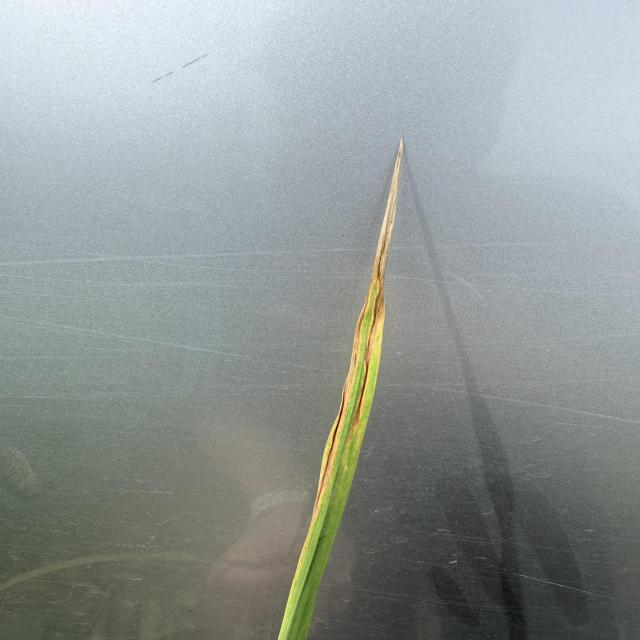Chay bia la: (312, 135, 404, 519)
